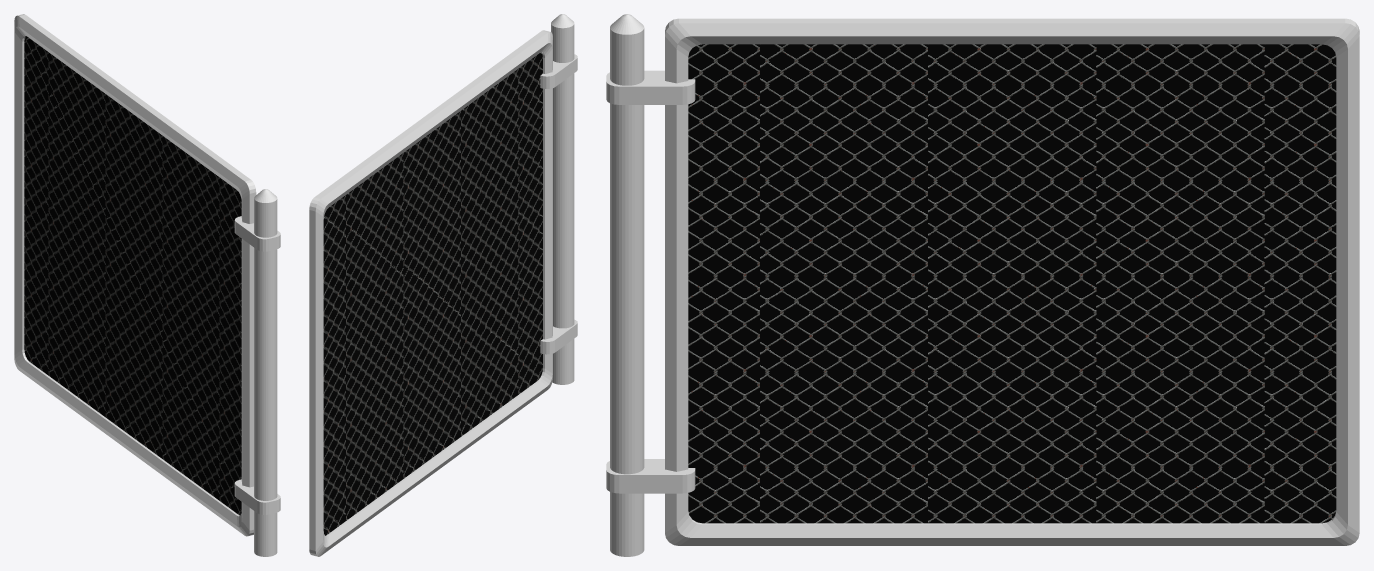
File: fenceGate.fbx
The picture shows the model from 3 angles, left to right: view 1: azimuth 30°, elevation 25°; view 2: azimuth 150°, elevation 25°; view 3: azimuth 270°, elevation 25°; orthographic projection. The views are drawn at different scales.
Visible parts, largest first — view 1: Cylinder, Cylinder.001; view 2: Cylinder, Cylinder.001; view 3: Cylinder, Cylinder.001.
Boxes of the visible parts, x1,y1,x2,y2 form: Cylinder: (14, 14, 280, 536); Cylinder.001: (254, 189, 277, 556); Cylinder: (309, 30, 577, 556); Cylinder.001: (551, 14, 574, 384); Cylinder: (606, 18, 1359, 545); Cylinder.001: (610, 14, 644, 556).
Bounding box in the file's own units: 46.78 × 728 × 929.
